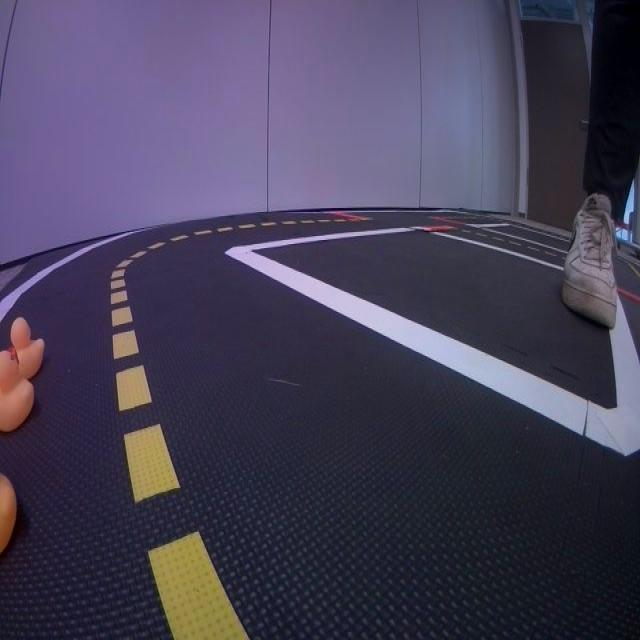duckie: (0, 346, 36, 434), (0, 316, 47, 379), (0, 472, 18, 557)
